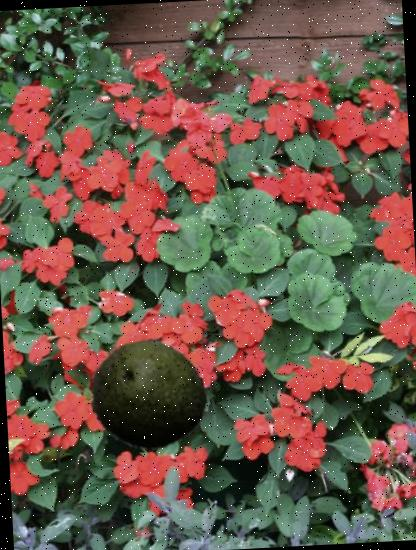Avocado: (88, 336, 208, 456)
